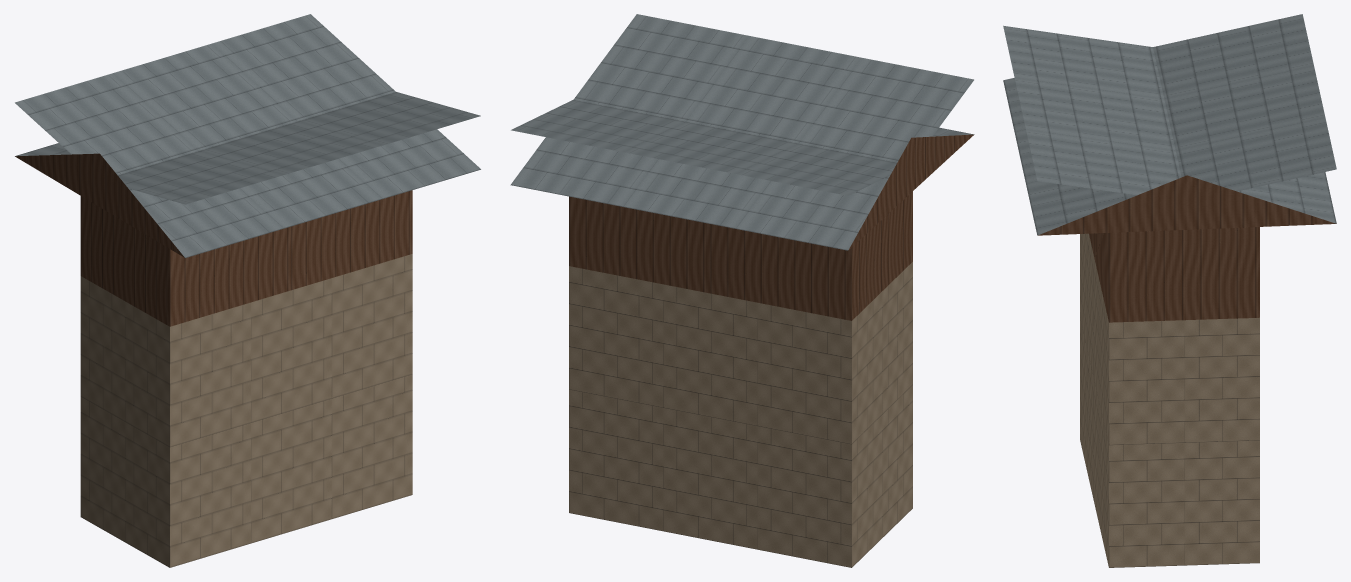
The model's file is bld_c29_-53_545.gltf.
3 views of the same model, side by side, from view 1: azimuth 30°, elevation 25°; view 2: azimuth 150°, elevation 25°; view 3: azimuth 270°, elevation 25° (orthographic). The views are drawn at different scales.
Parts seen in each view (by area): view 1: bld_c29_-53_545; view 2: bld_c29_-53_545; view 3: bld_c29_-53_545.
Part boxes in pixels (bbox=[...]): bld_c29_-53_545: bbox=[15, 14, 480, 567]; bld_c29_-53_545: bbox=[510, 14, 974, 567]; bld_c29_-53_545: bbox=[1003, 14, 1336, 567].
Size of the model in its own units: 6.57 by 7.4 by 5.55.
4 materials, 4 textured.
